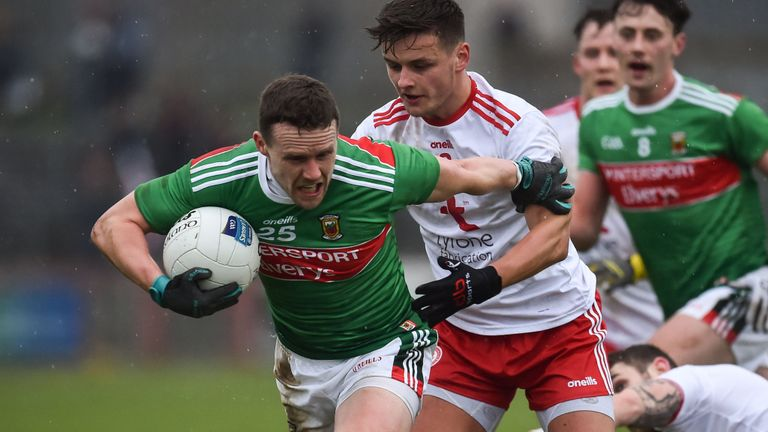ball: (161, 204, 259, 295)
player: (110, 64, 437, 428), (359, 0, 618, 428), (583, 5, 767, 360)
